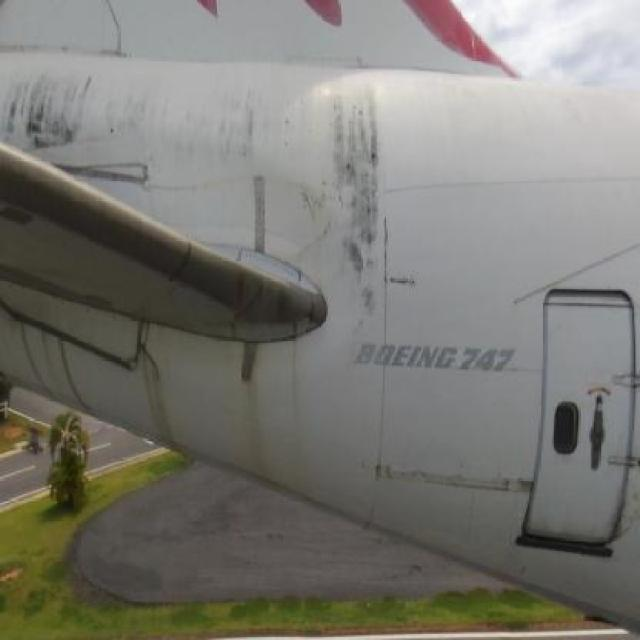Rust: (2, 51, 320, 192), (320, 74, 382, 318), (14, 312, 104, 420), (129, 334, 189, 455), (234, 336, 281, 490), (228, 260, 315, 334), (283, 334, 315, 469)
Scartch: (372, 448, 538, 522), (292, 173, 348, 265), (608, 443, 640, 555), (383, 214, 425, 295)
